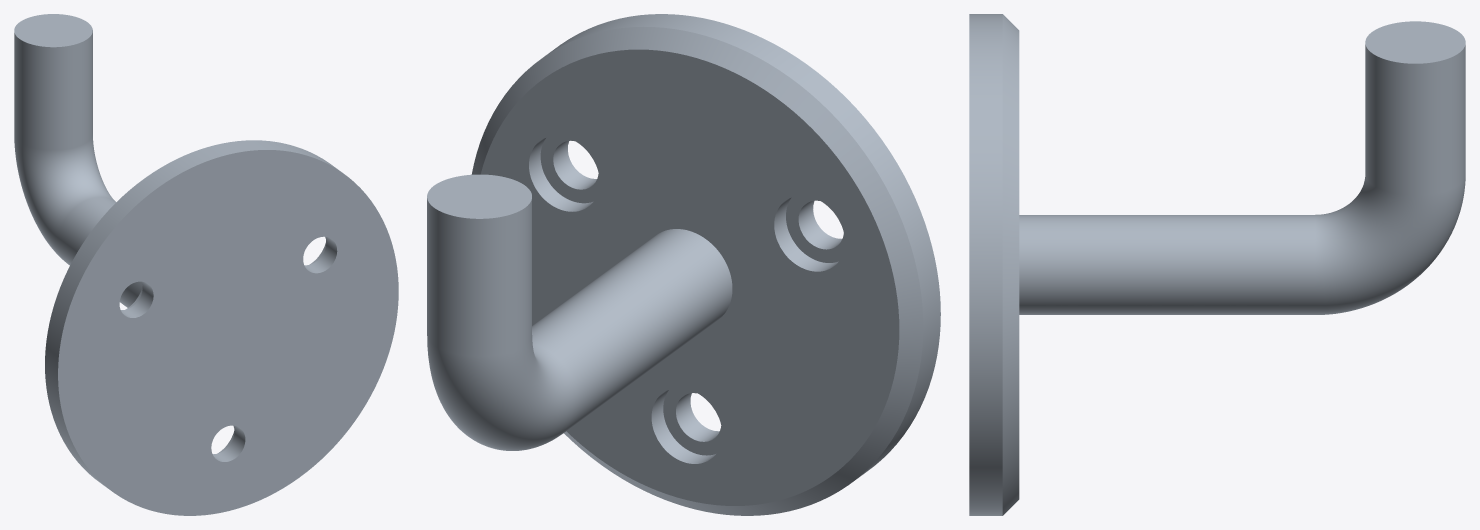
Rendered from marcel-bracket.glb.
3 renders of one model, left to right at view 1: azimuth 30°, elevation 25°; view 2: azimuth 150°, elevation 25°; view 3: azimuth 270°, elevation 25°, orthographic. The views are drawn at different scales.
Parts seen in each view (by area): view 1: Bracket; view 2: Bracket; view 3: Bracket.
Boxes of the visible parts, box(x1,y1,x2,y2) form: Bracket: box(14, 14, 398, 515); Bracket: box(427, 14, 940, 515); Bracket: box(969, 14, 1465, 515).
Size of the model in its own units: 0.045 by 0.045 by 0.0445.
